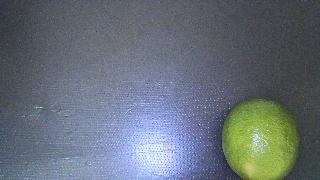EXPORTACION: (222, 99, 299, 180)
